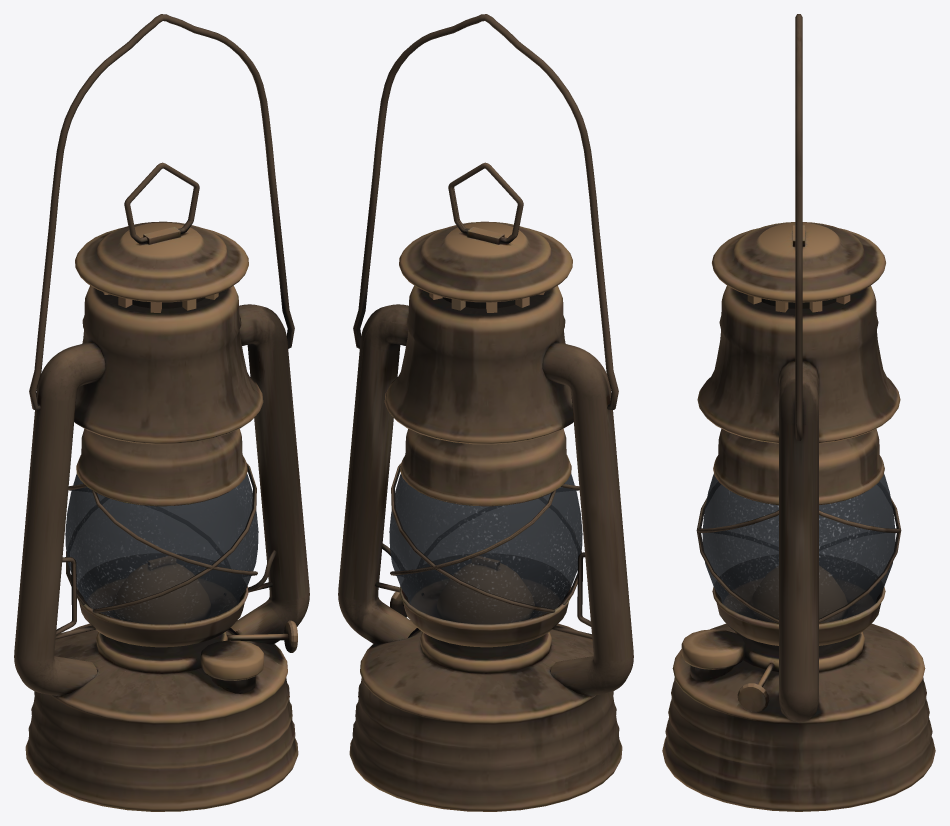
Rendered from hurricane-lantern_final.glb.
The picture shows the model from 3 angles, left to right: view 1: azimuth 30°, elevation 25°; view 2: azimuth 150°, elevation 25°; view 3: azimuth 270°, elevation 25°; orthographic projection.
Visible parts, largest first — view 1: SM_Lantern_Fount, SM_Lantern_Hood, SM_Lantern_Globe, SM_Lantern_Tube_L, SM_Lantern_Tube_R, SM_Lantern_Lid, SM_Lantern_GlobeCollar, SM_Lantern_Bail, SM_Lantern_GlobeSeat, SM_Lantern_Burner, SM_Lantern_BurnerCollar, SM_Lantern_FillerCap (+5 smaller); view 2: SM_Lantern_Fount, SM_Lantern_Hood, SM_Lantern_Globe, SM_Lantern_Tube_L, SM_Lantern_Tube_R, SM_Lantern_Lid, SM_Lantern_GlobeCollar, SM_Lantern_Bail, SM_Lantern_GlobeSeat, SM_Lantern_Burner, SM_Lantern_BurnerCollar, SM_Lantern_GuardWires (+3 smaller); view 3: SM_Lantern_Fount, SM_Lantern_Hood, SM_Lantern_Globe, SM_Lantern_Tube_R, SM_Lantern_Lid, SM_Lantern_GlobeCollar, SM_Lantern_GlobeSeat, SM_Lantern_Bail, SM_Lantern_FillerCap, SM_Lantern_GuardWires, SM_Lantern_Burner, SM_Lantern_BurnerCollar (+2 smaller).
Boxes of the visible parts, <box> form: SM_Lantern_Fount: <box>25,623,298,811</box>; SM_Lantern_Hood: <box>74,285,263,444</box>; SM_Lantern_Globe: <box>65,474,258,624</box>; SM_Lantern_Tube_L: <box>14,342,105,696</box>; SM_Lantern_Tube_R: <box>228,304,309,644</box>; SM_Lantern_Lid: <box>75,221,248,302</box>; SM_Lantern_GlobeCollar: <box>76,429,247,506</box>; SM_Lantern_Bail: <box>29,14,294,409</box>; SM_Lantern_GlobeSeat: <box>76,578,248,647</box>; SM_Lantern_Burner: <box>113,563,210,623</box>; SM_Lantern_BurnerCollar: <box>96,632,227,673</box>; SM_Lantern_FillerCap: <box>200,640,263,693</box>; SM_Lantern_Fount: <box>349,623,622,811</box>; SM_Lantern_Hood: <box>384,285,573,444</box>; SM_Lantern_Globe: <box>389,474,582,624</box>; SM_Lantern_Tube_L: <box>542,342,633,696</box>; SM_Lantern_Tube_R: <box>338,304,419,644</box>; SM_Lantern_Lid: <box>399,221,572,302</box>; SM_Lantern_GlobeCollar: <box>400,429,571,506</box>; SM_Lantern_Bail: <box>353,14,618,409</box>; SM_Lantern_GlobeSeat: <box>399,578,571,647</box>; SM_Lantern_Burner: <box>437,563,534,623</box>; SM_Lantern_BurnerCollar: <box>420,632,551,673</box>; SM_Lantern_GuardWires: <box>390,463,581,612</box>; SM_Lantern_Fount: <box>662,623,935,811</box>; SM_Lantern_Hood: <box>697,286,900,443</box>; SM_Lantern_Globe: <box>702,474,895,623</box>; SM_Lantern_Tube_R: <box>779,360,818,722</box>; SM_Lantern_Lid: <box>712,222,885,302</box>; SM_Lantern_GlobeCollar: <box>713,428,884,505</box>; SM_Lantern_GlobeSeat: <box>712,578,885,645</box>; SM_Lantern_Bail: <box>795,14,802,440</box>; SM_Lantern_FillerCap: <box>681,629,745,681</box>; SM_Lantern_GuardWires: <box>696,497,901,622</box>; SM_Lantern_Burner: <box>750,566,847,622</box>; SM_Lantern_BurnerCollar: <box>735,632,864,672</box>.
Bounding box in the file's own units: 0.1572 × 0.3839 × 0.1282.
Materials: 3 (3 with a texture image).
